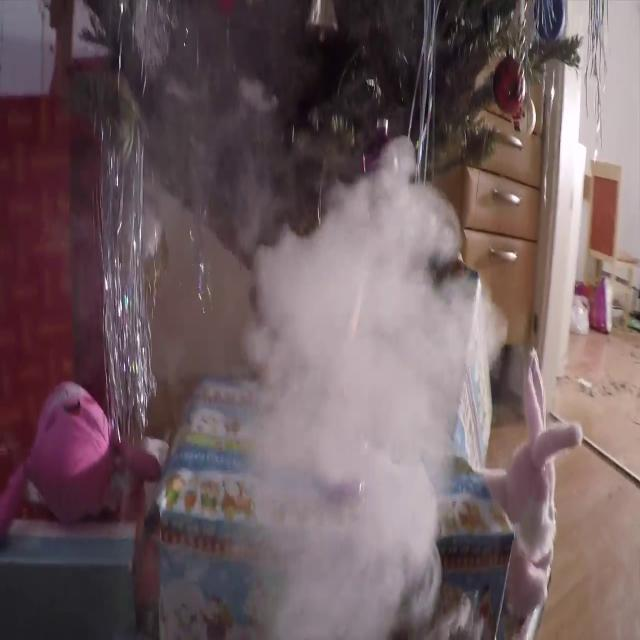Smoke: (218, 131, 507, 640)
